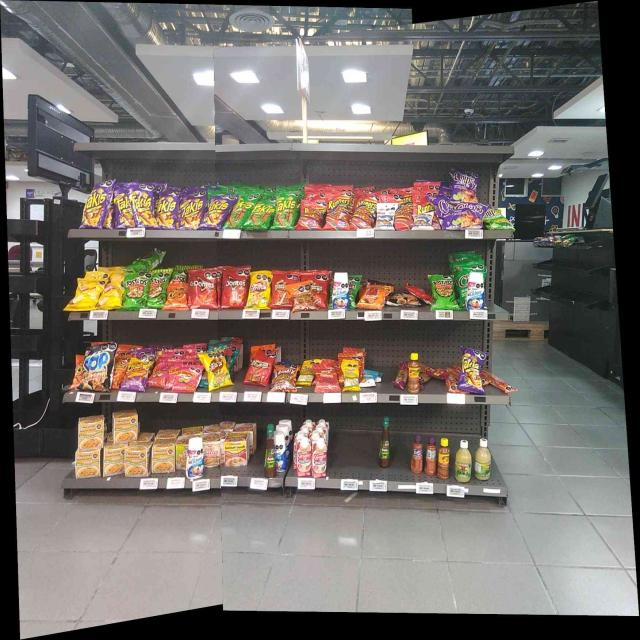bitzAlmendras: (362, 370, 376, 386)
bitzEnchilado90: (315, 366, 338, 391)
bitzEnchilado95: (486, 371, 514, 393)
bitzHabanero: (422, 364, 445, 379), (396, 362, 407, 389)
botaneraChilito: (438, 438, 450, 479), (409, 353, 420, 393)
cheetosFlaminHot: (127, 352, 145, 391)
cheetosOriginal: (167, 285, 187, 308)
chipsFuego: (454, 168, 476, 202), (454, 204, 482, 230)
chipsPapatinas: (485, 210, 509, 230)
churrumais: (173, 365, 197, 391), (151, 363, 167, 386)
delPrimoSalsa: (475, 438, 491, 480), (455, 440, 471, 482)
doritosNacho: (192, 270, 218, 309), (222, 269, 247, 307)
fritosLimon: (249, 273, 270, 309), (206, 353, 223, 388)
hotNutsOriginal: (360, 287, 384, 308)
leoCacahuates: (377, 204, 394, 229), (413, 213, 431, 230)
leoMix: (274, 365, 297, 392), (290, 284, 312, 309)
maruchanPollo: (111, 409, 138, 441), (126, 443, 150, 475), (79, 418, 103, 448), (152, 441, 174, 472), (75, 451, 100, 477), (105, 445, 123, 475)
maruchanRes: (226, 432, 248, 465)
nestleCarnation: (312, 440, 327, 476), (297, 439, 311, 476)
nestleLechera: (466, 272, 484, 309), (188, 440, 205, 479), (333, 272, 349, 308), (276, 432, 286, 472)
nissinCamaron: (176, 436, 186, 470)
popKarameladas: (84, 345, 111, 390)
rancheritos: (272, 270, 288, 307), (250, 356, 270, 383), (314, 272, 328, 308)
runners: (327, 194, 348, 230), (301, 202, 322, 229), (355, 200, 373, 228)
sabritasOriginal: (76, 280, 100, 308), (102, 279, 122, 308)
salsaBufalo: (379, 416, 391, 468), (264, 424, 274, 477)
semillasCalabaza: (344, 362, 358, 391), (299, 361, 312, 385)
tajinDulce: (411, 433, 423, 473), (425, 436, 436, 475)
takisFuego: (83, 182, 106, 230), (461, 346, 483, 394), (132, 184, 155, 228), (181, 190, 202, 228), (157, 193, 177, 229), (114, 185, 130, 228), (205, 196, 226, 228)
takisOriginal: (275, 193, 293, 230), (229, 195, 248, 228), (252, 200, 272, 229)
tostitos: (431, 275, 455, 310), (125, 273, 147, 308), (149, 270, 166, 308)
